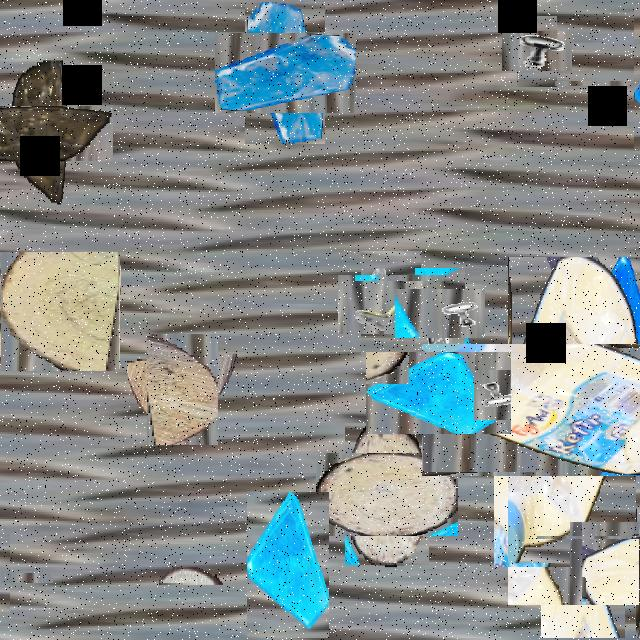glass: (524, 505, 640, 621), (381, 336, 495, 450), (230, 18, 340, 128), (247, 492, 329, 638), (494, 432, 570, 567), (594, 41, 640, 125)
metal: (350, 262, 432, 346), (405, 278, 475, 348), (509, 24, 565, 79), (0, 551, 31, 604)
plastic: (464, 301, 640, 520), (0, 83, 90, 184), (586, 485, 640, 588)
wood: (0, 252, 120, 370), (331, 438, 444, 550), (137, 344, 229, 435), (159, 567, 223, 585)
